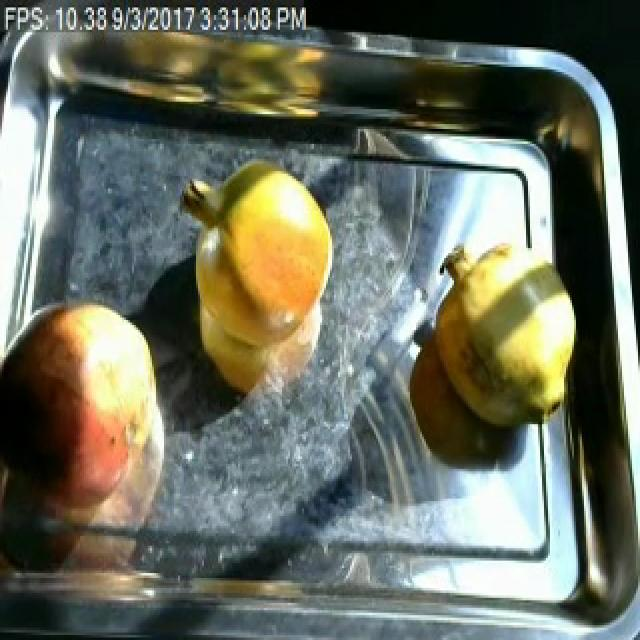fruit: (6, 285, 178, 541), (174, 142, 344, 367), (422, 233, 578, 437)
